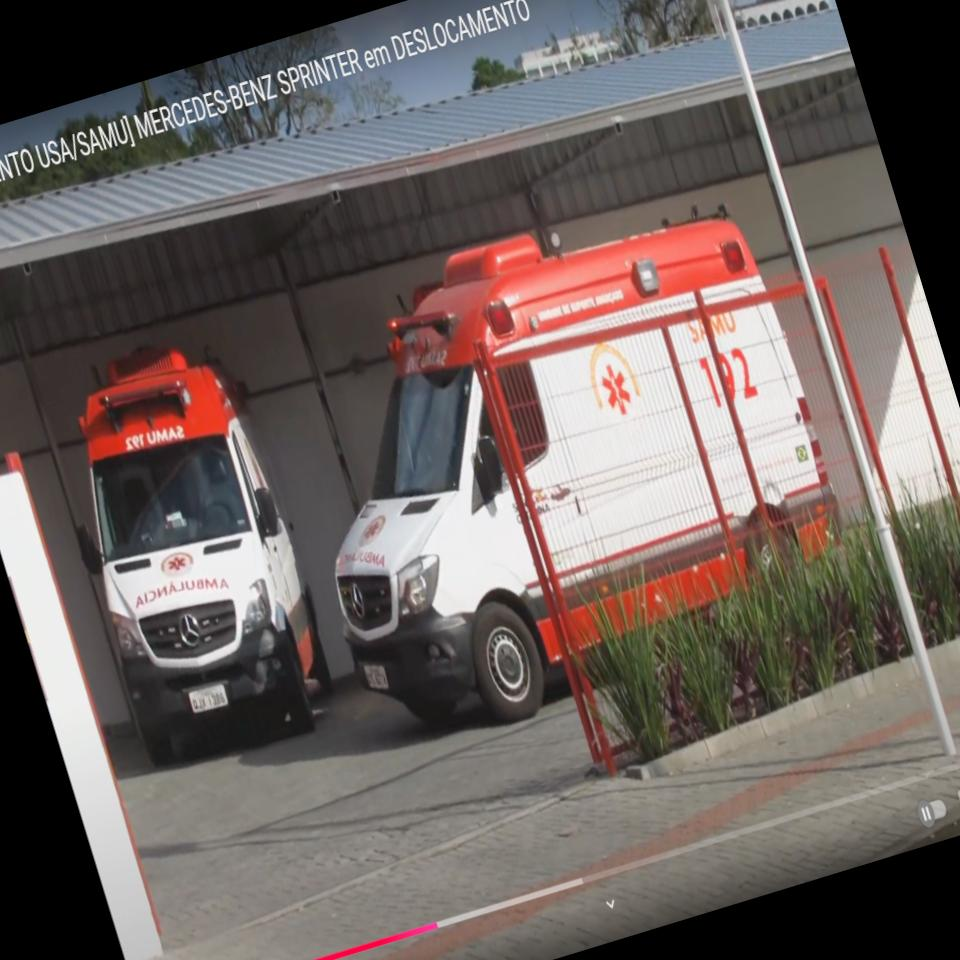bombeiro: (244, 162, 878, 764), (26, 320, 355, 779)
